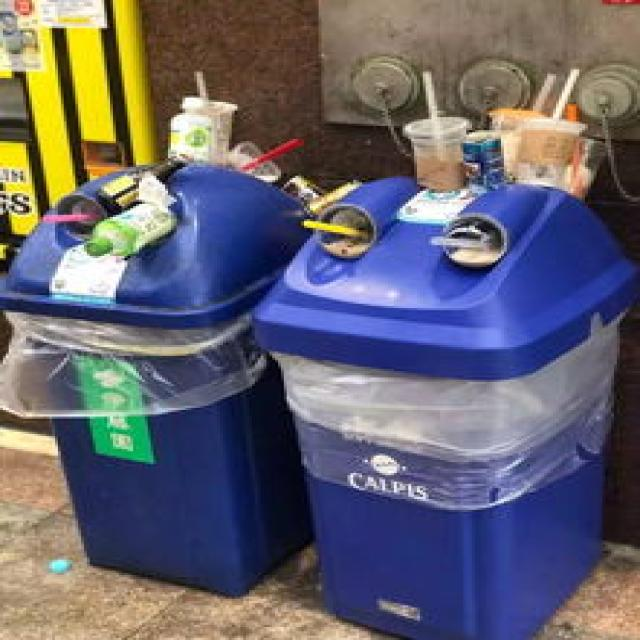overflow: (252, 67, 637, 638), (0, 69, 313, 596)
